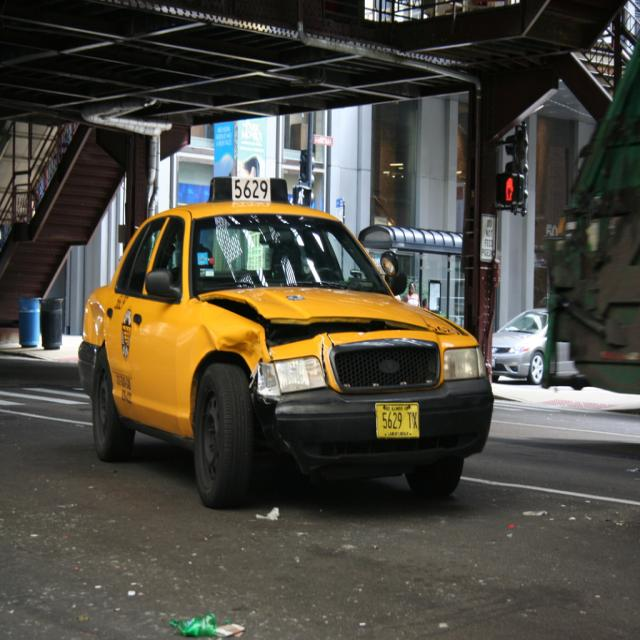car: (74, 177, 490, 515)
